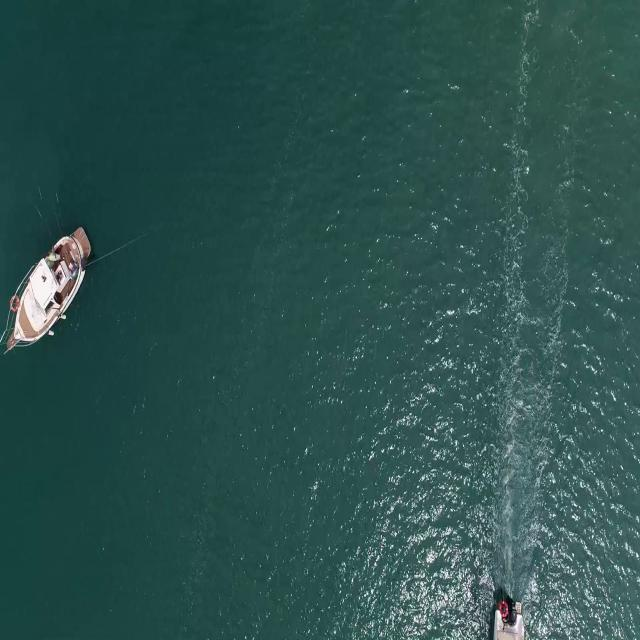boat: (7, 223, 91, 351), (490, 616, 530, 640)
life_buoy: (8, 288, 18, 312), (497, 601, 509, 620)
person: (45, 250, 62, 264), (67, 261, 79, 277)
